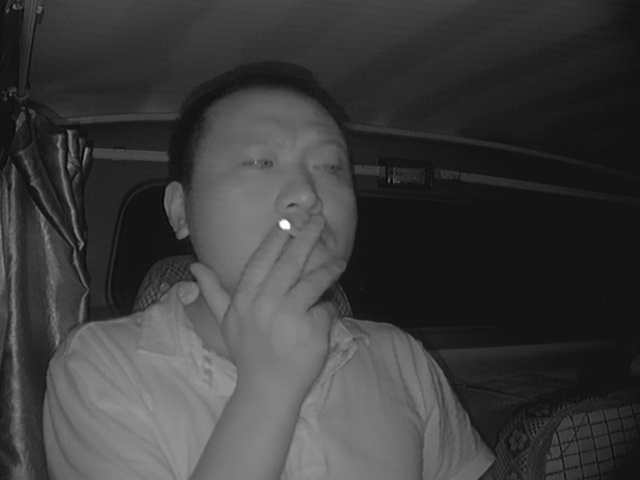hand: (247, 216, 342, 344)
